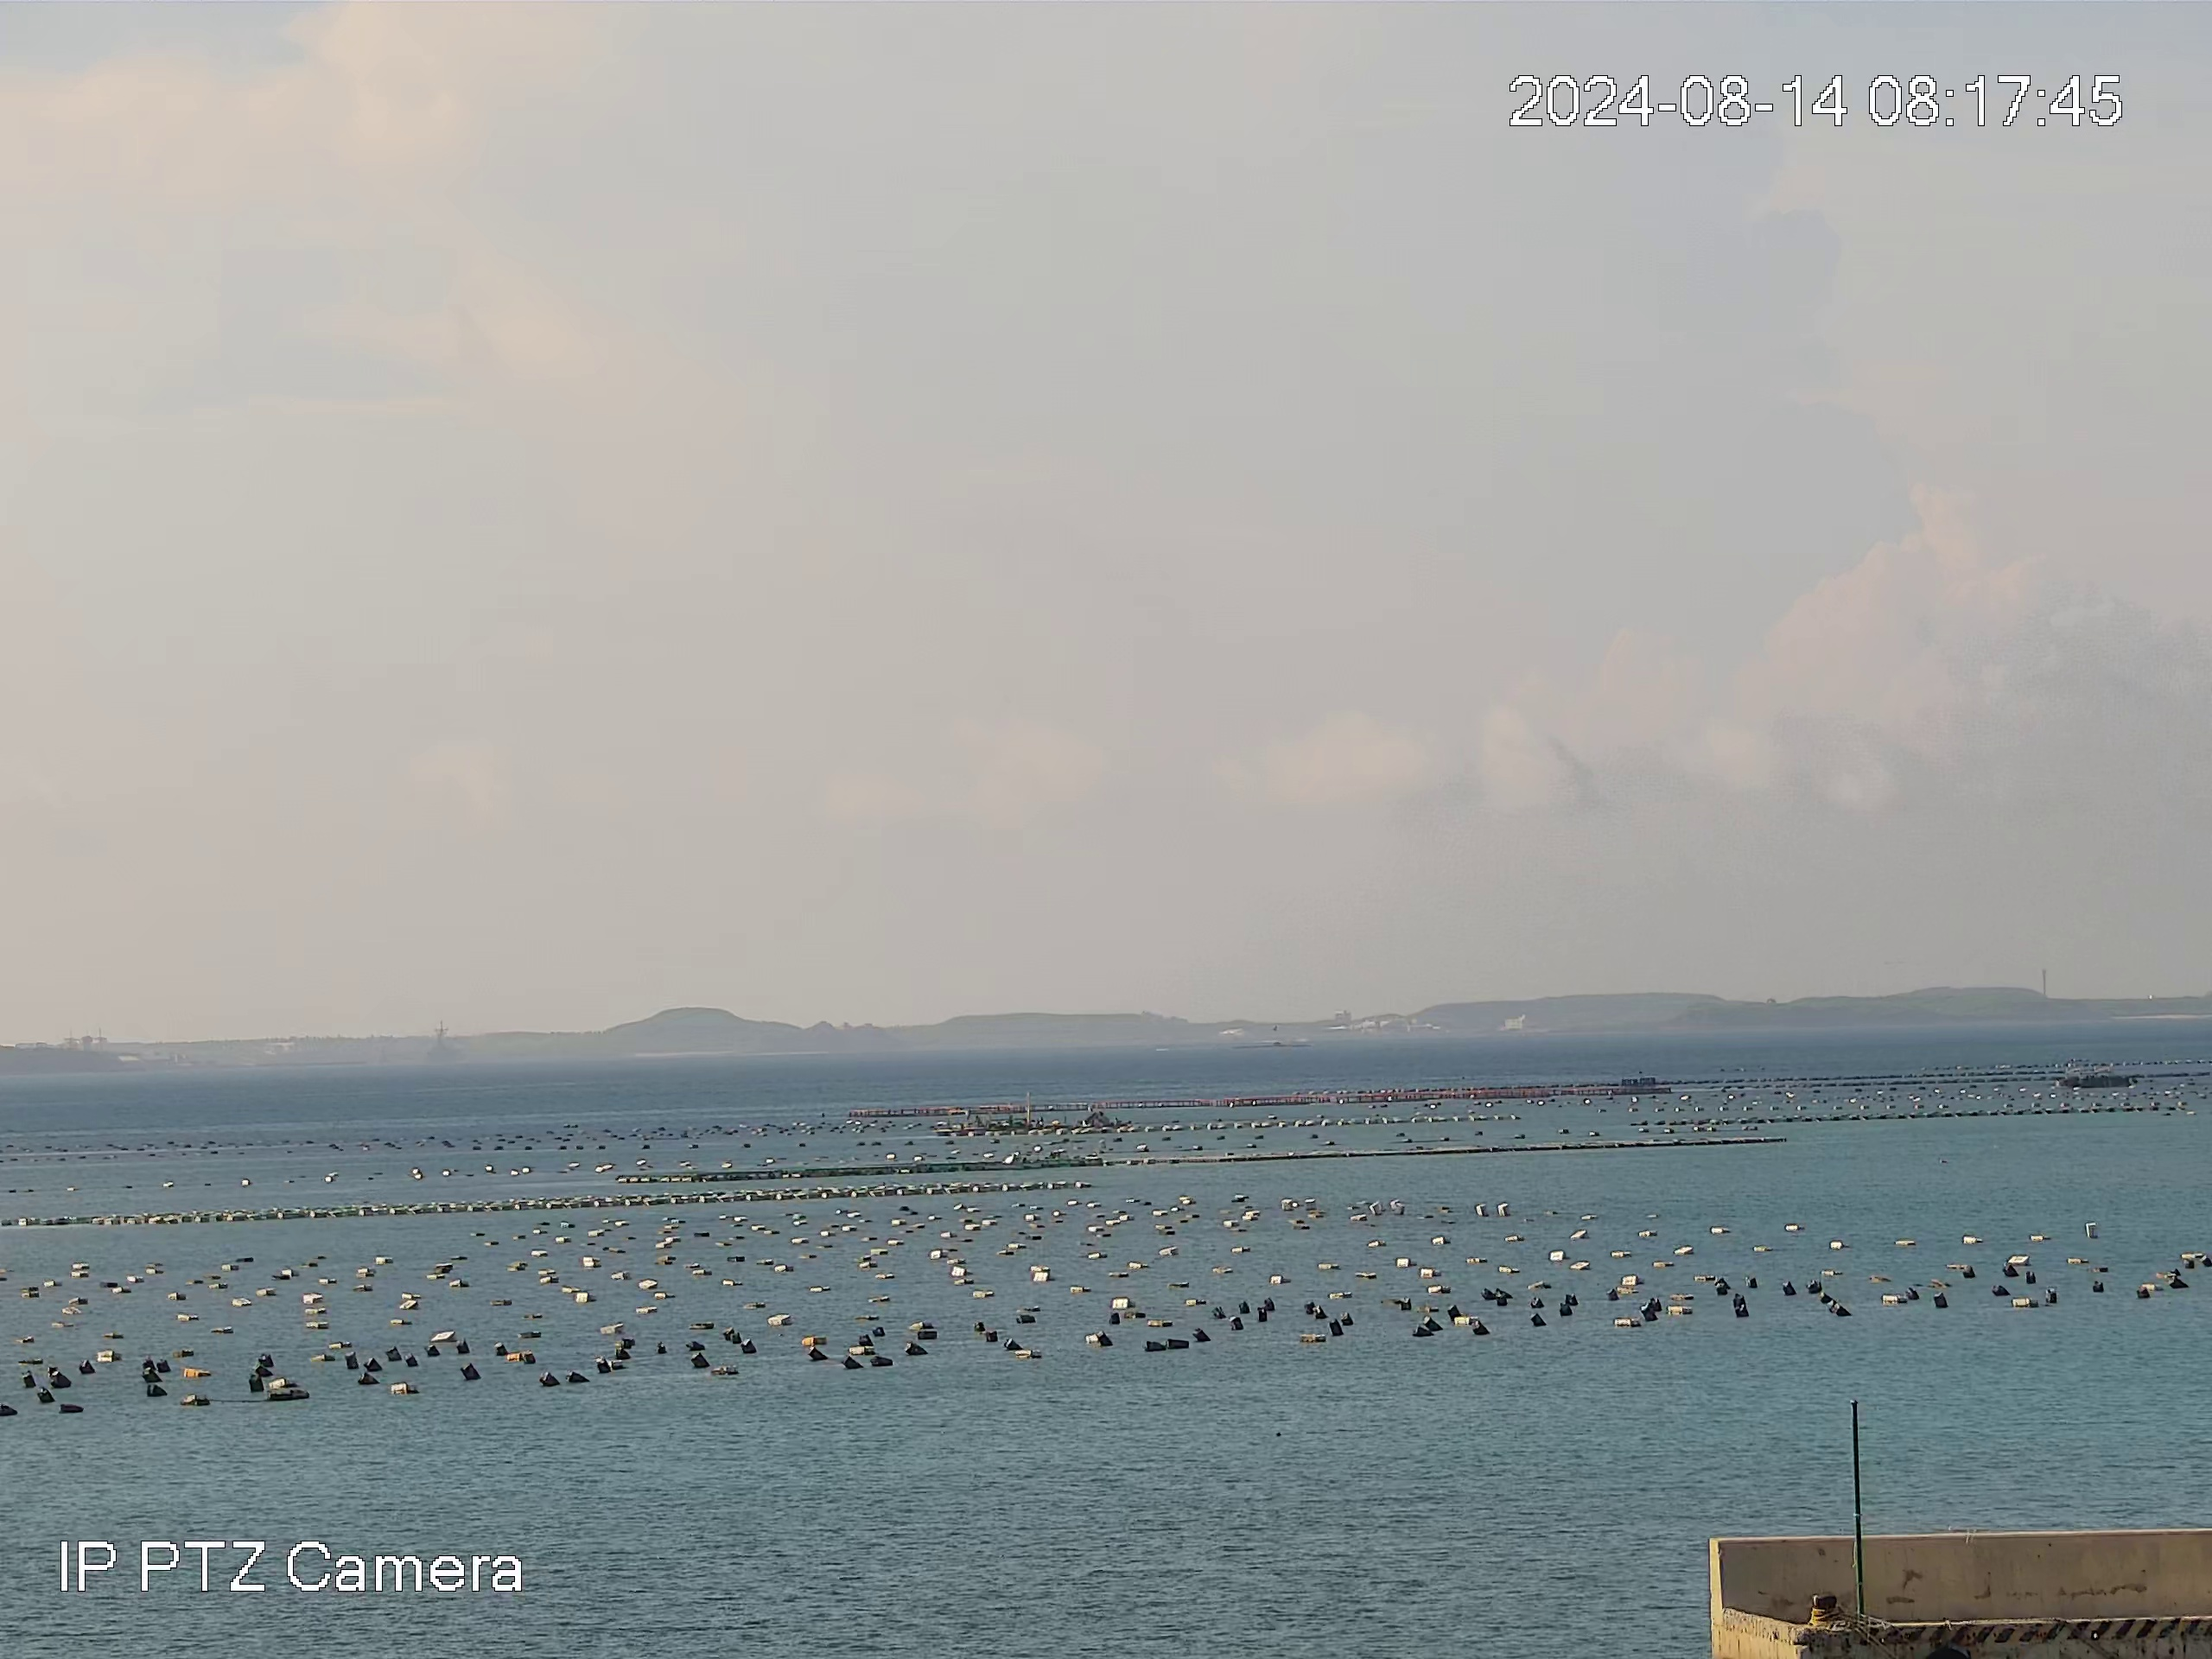boat: (2059, 1061, 2132, 1089)
